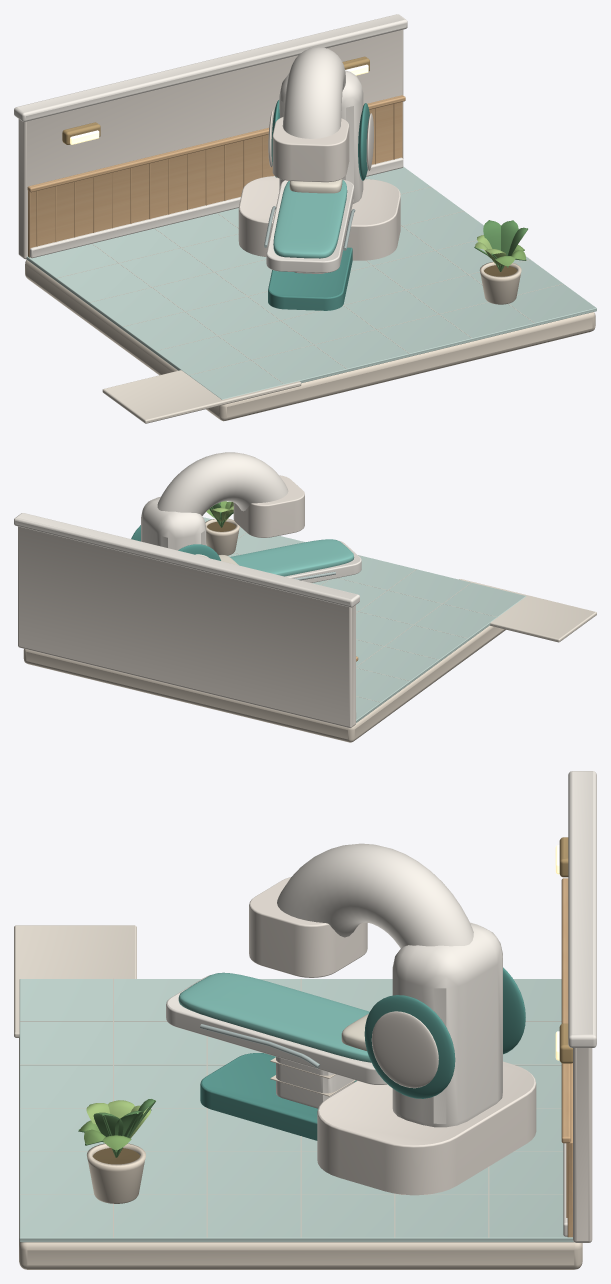
The model's file is treatment-annex.glb.
3 renders of one model, top to bottom at view 1: azimuth 30°, elevation 25°; view 2: azimuth 150°, elevation 25°; view 3: azimuth 270°, elevation 25°, orthographic. The views are drawn at different scales.
Visible parts, largest first — view 1: treatment-annex, TreatmentHead; view 2: treatment-annex, TreatmentHead; view 3: treatment-annex, TreatmentHead.
Boxes of the visible parts, x1,y1,x2,y2 form: treatment-annex: [14, 14, 596, 423]; TreatmentHead: [272, 47, 349, 182]; treatment-annex: [14, 496, 596, 742]; TreatmentHead: [157, 452, 304, 537]; treatment-annex: [14, 771, 596, 1269]; TreatmentHead: [249, 843, 473, 977].
Bounding box in the file's own units: 7.33 × 3.4 × 5.69.
18 materials, 2 textured.
